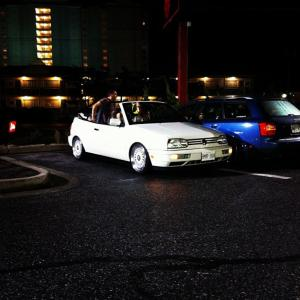Vehicle-registration-plate: (203, 151, 217, 162), (293, 126, 300, 135)
